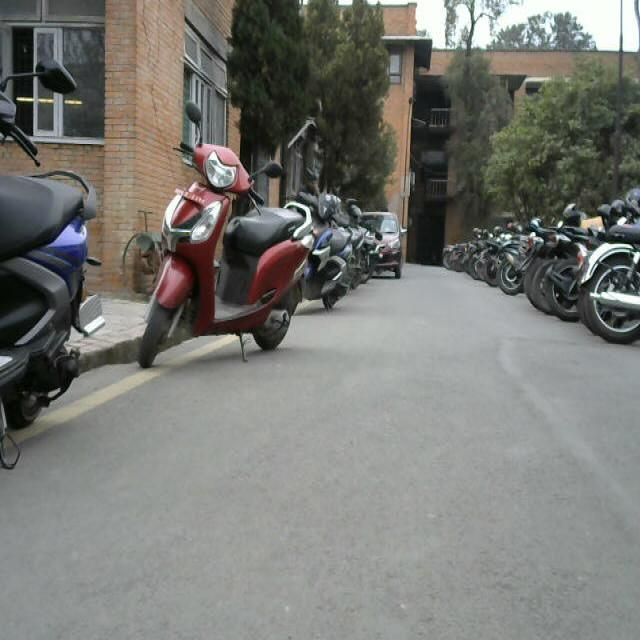Bike: (135, 101, 312, 394), (0, 75, 99, 484), (453, 204, 640, 333)
Car: (334, 194, 412, 285)
Pole: (400, 94, 423, 288)
Road: (116, 281, 640, 631)
trees: (232, 8, 414, 162)
